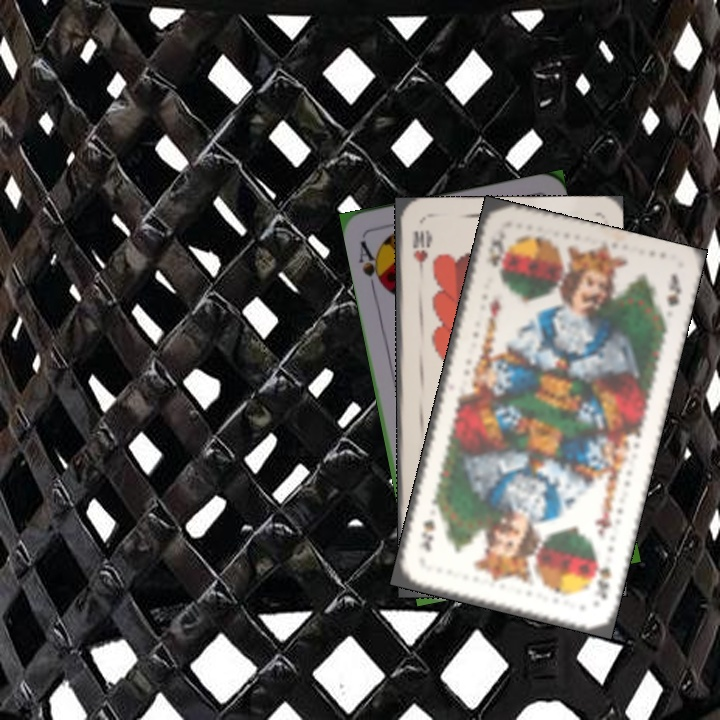H10: (408, 226, 429, 281)
SA: (355, 237, 388, 293)
SK: (588, 553, 615, 602), (484, 230, 507, 269)
